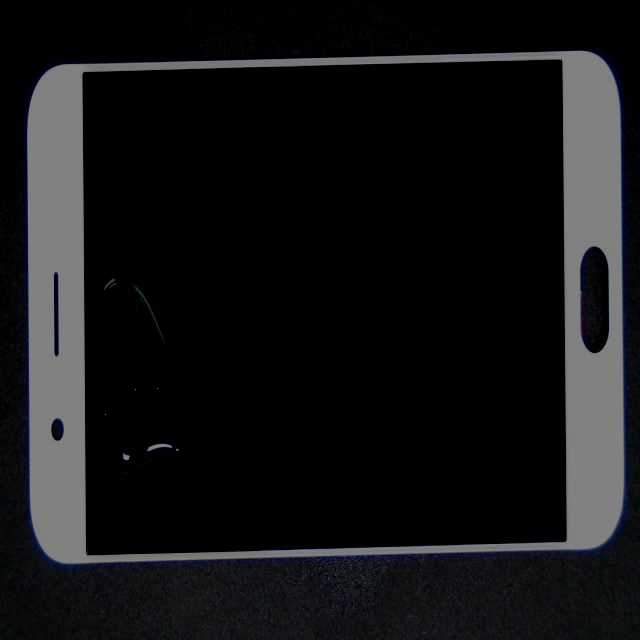oil: (69, 120, 165, 425)
